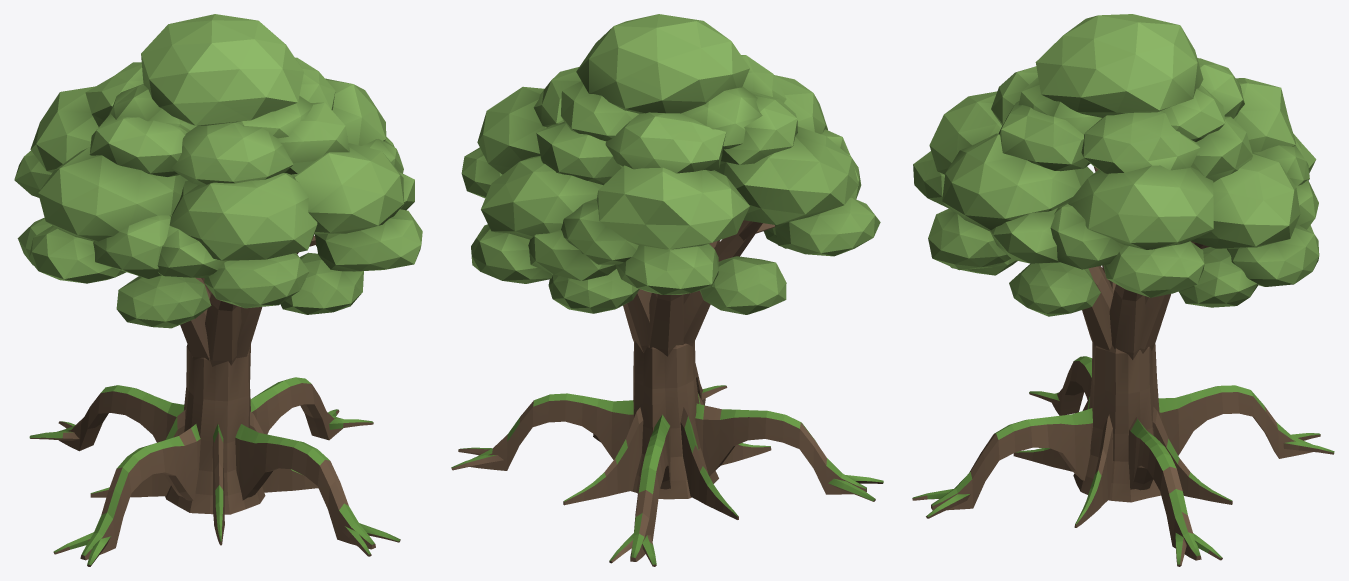
File: tree_ancient_low.glb
The picture shows the model from 3 angles, left to right: view 1: azimuth 30°, elevation 25°; view 2: azimuth 150°, elevation 25°; view 3: azimuth 270°, elevation 25°; orthographic projection. The views are drawn at different scales.
Bounding box in the file's own units: 35.28 × 40.78 × 33.89.
